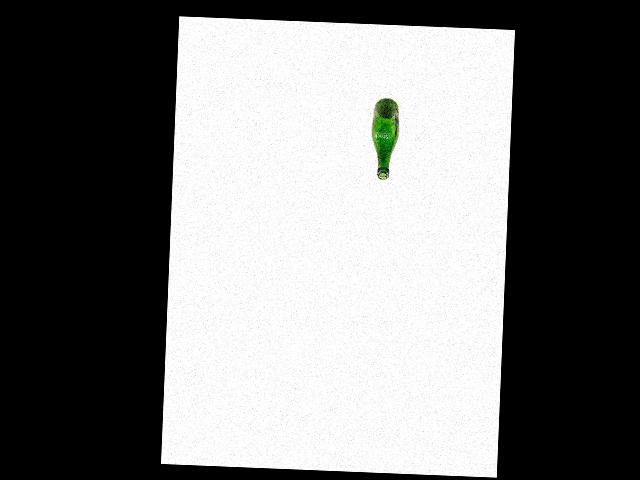beer: (369, 97, 400, 180)
